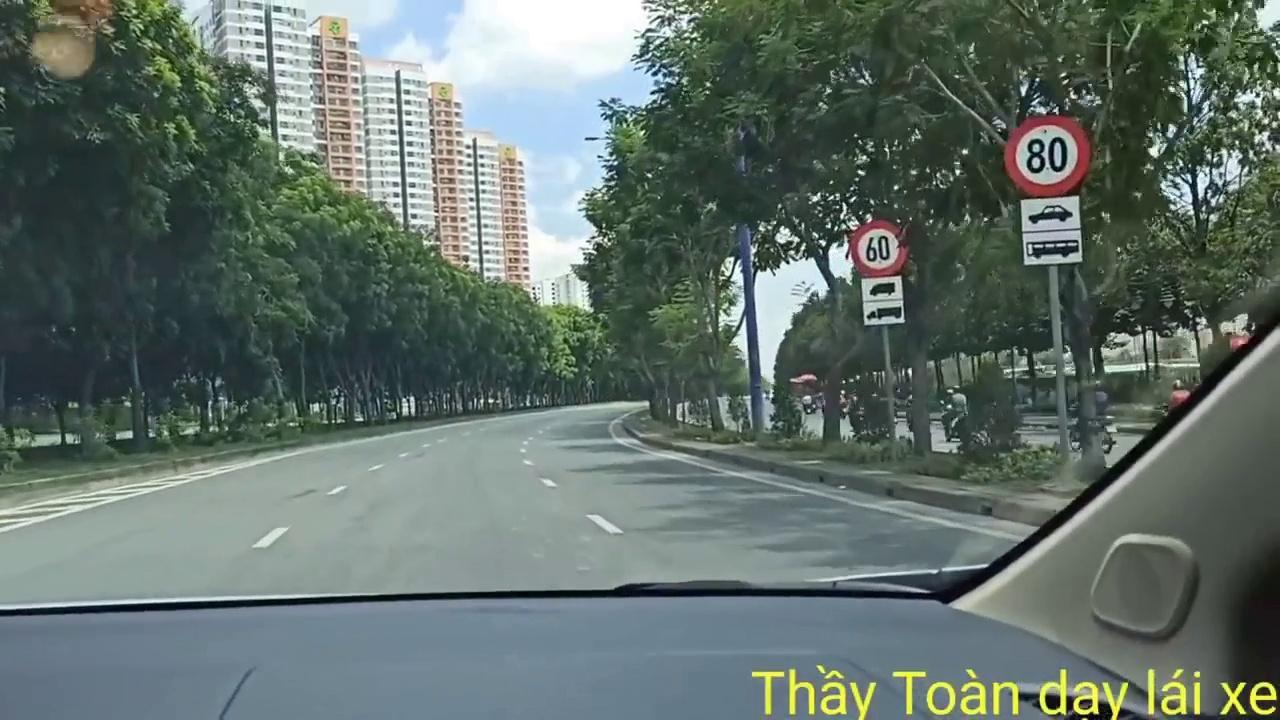Biển phụ: (1020, 197, 1084, 266), (858, 276, 907, 324)
GIơi hạn tốc độ 60Km/h: (849, 216, 908, 276)
Giới hạn tốc độ 80Km/h: (1004, 111, 1092, 197)
